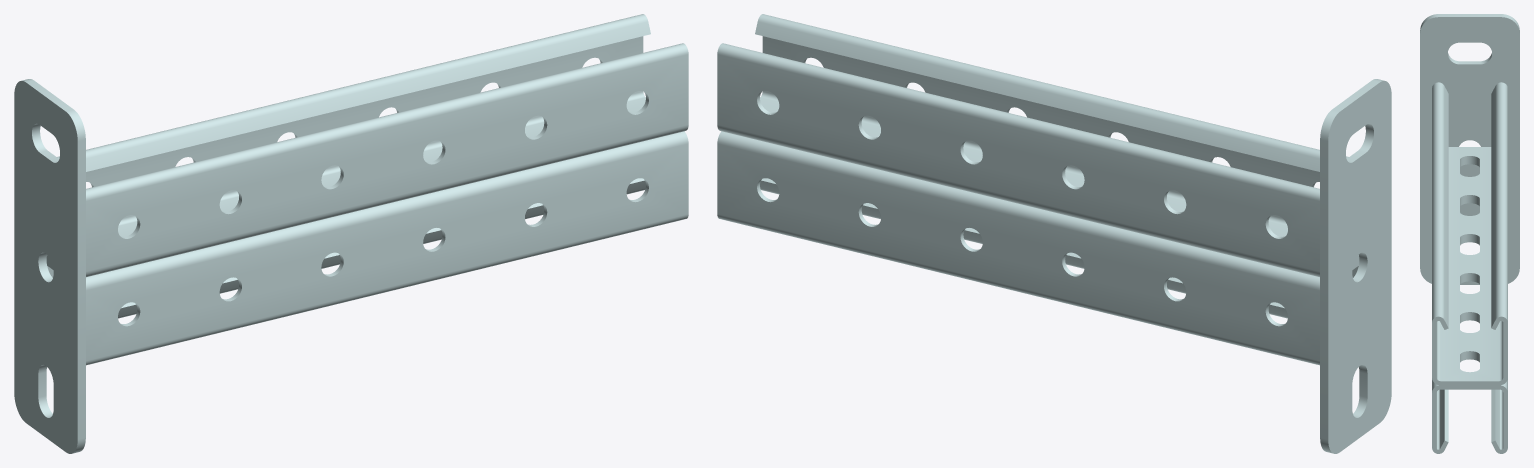
3 views of the same model, side by side, from view 1: azimuth 30°, elevation 25°; view 2: azimuth 150°, elevation 25°; view 3: azimuth 270°, elevation 25° (orthographic). The views are drawn at different scales.
Parts seen in each view (by area): view 1: K4182 - Консоль вертикальная STRUT 82 TM PRO; view 2: K4182 - Консоль вертикальная STRUT 82 TM PRO; view 3: K4182 - Консоль вертикальная STRUT 82 TM PRO.
Boxes of the visible parts, x1,y1,x2,y2 form: K4182 - Консоль вертикальная STRUT 82 TM PRO: (14,14,688,453); K4182 - Консоль вертикальная STRUT 82 TM PRO: (717,14,1391,453); K4182 - Консоль вертикальная STRUT 82 TM PRO: (1420,14,1519,453).
Bounding box in the file's own units: 5.46 × 2.87 × 0.97.
